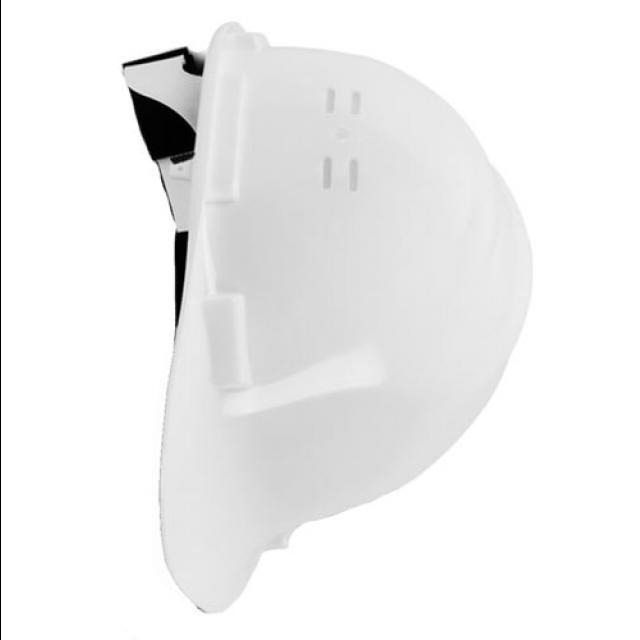safety_helmet: (120, 22, 532, 616)
